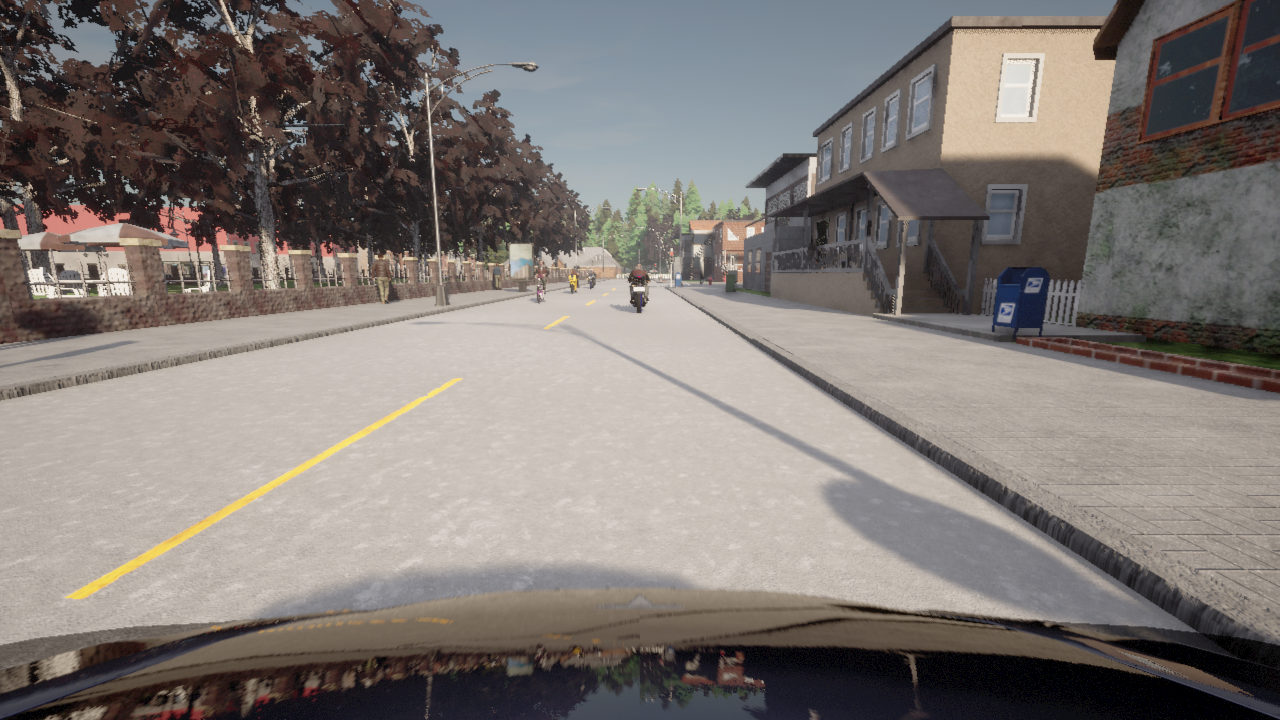cyclist: (0, 588, 1279, 719), (626, 274, 651, 313), (565, 274, 578, 293), (537, 276, 545, 303), (586, 273, 596, 288)
pedestrian: (371, 252, 390, 303), (493, 263, 501, 290)
